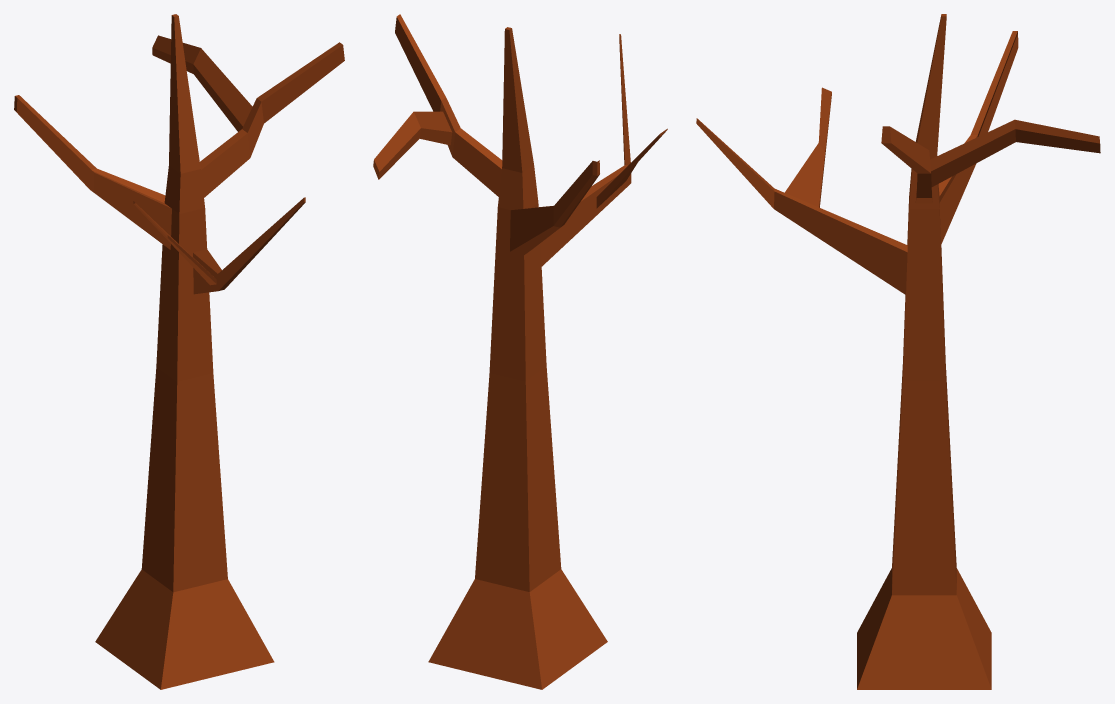
The model's file is tree.glb.
3 views of the same model, side by side, from view 1: azimuth 30°, elevation 25°; view 2: azimuth 150°, elevation 25°; view 3: azimuth 270°, elevation 25° (orthographic). The views are drawn at different scales.
Parts seen in each view (by area): view 1: Cube; view 2: Cube; view 3: Cube.
Part boxes in pixels (x1,y1,x2,y2): Cube: (14,14,344,689); Cube: (373,14,667,689); Cube: (696,14,1100,689).
Size of the model in its own units: 4.64 by 10.58 by 5.99.
